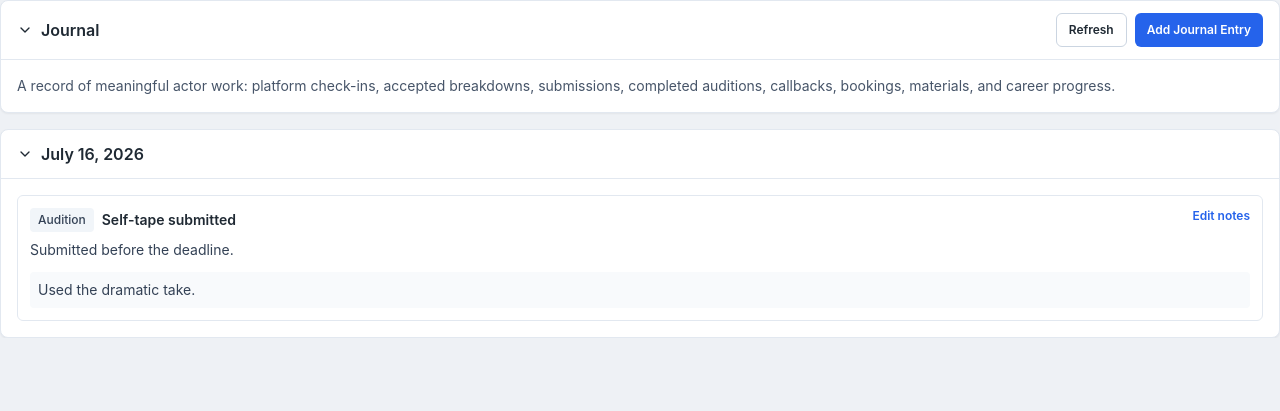
Scenario: JournalPanel server state › updates notes through the Journal mutation
Click the button "Edit notes". click: (1221, 216)
box: [1192,208,1250,224]
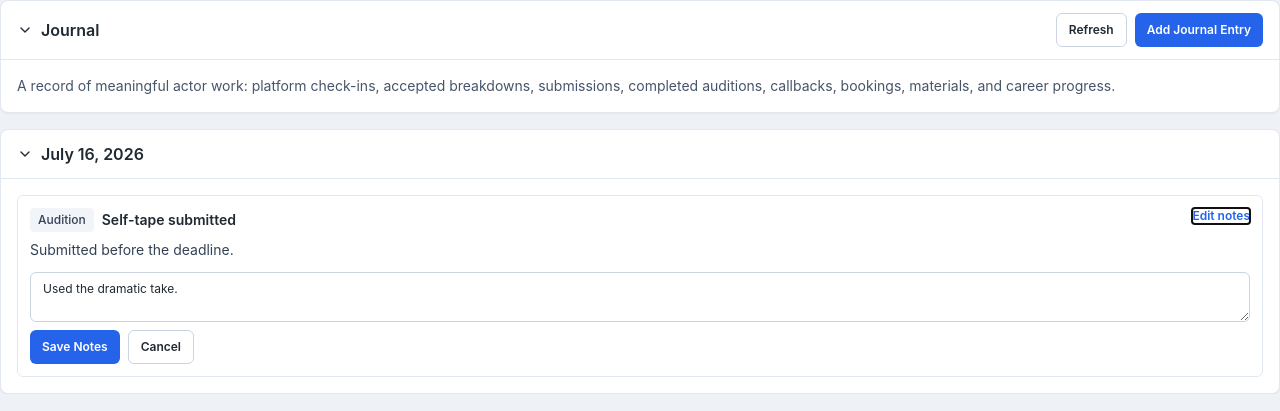
Replace the text in the text box with "Updated note". click: (640, 297)
box: [30,272,1250,322]
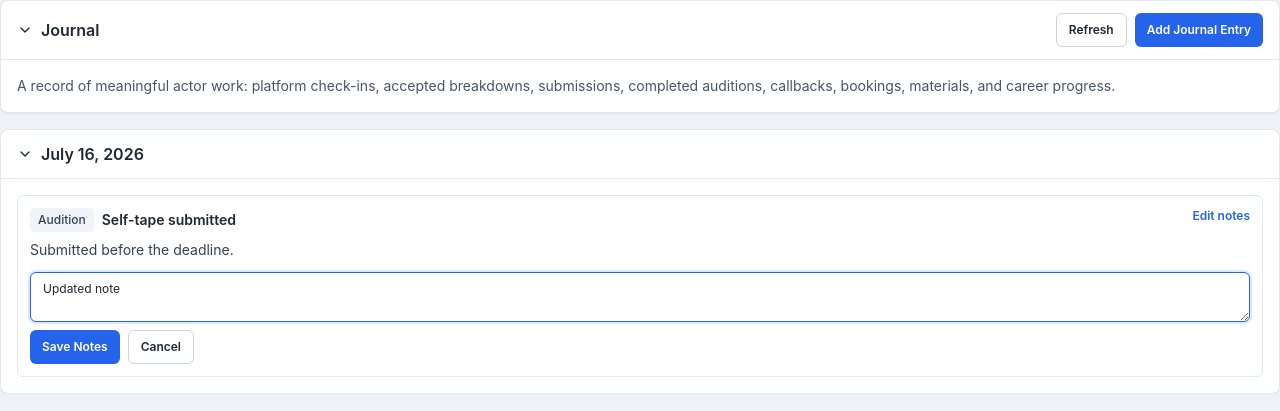
Click the button "Save Notes". click: (75, 347)
box: [30,330,120,364]
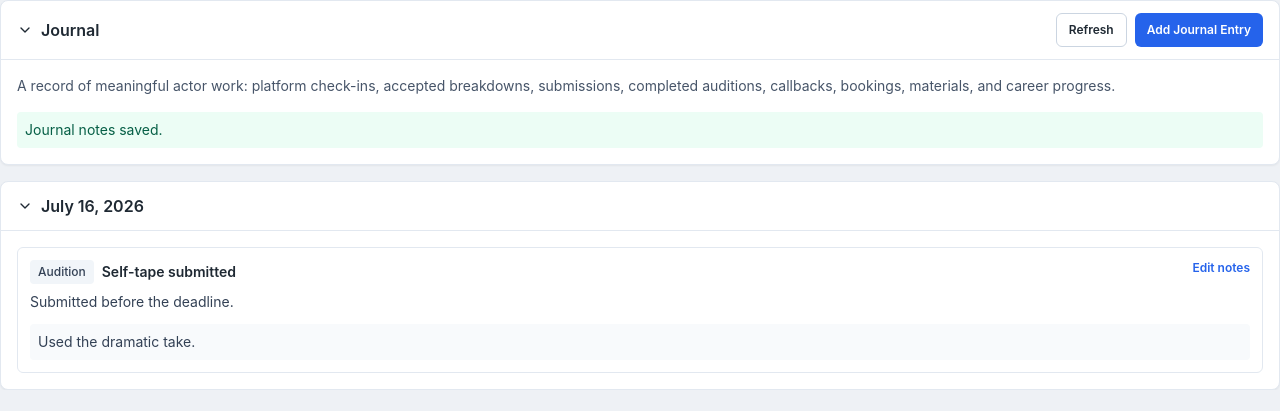
Result: the text "Journal notes saved." is shown at [17,112,1263,148]
